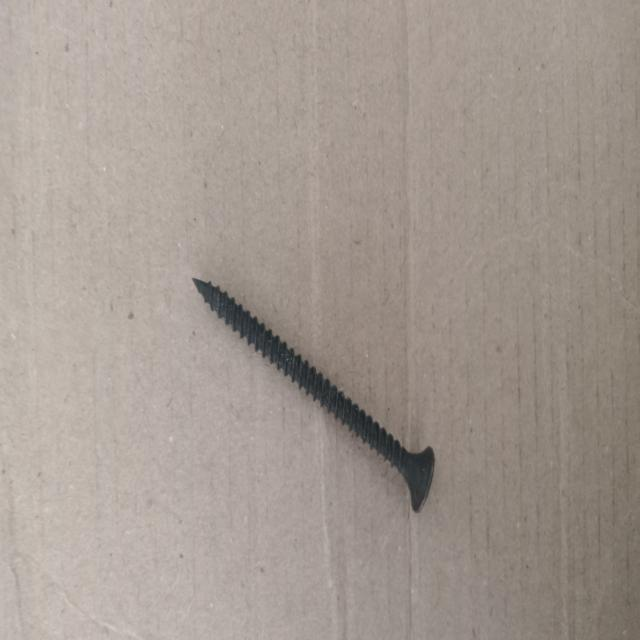screw: (192, 276, 436, 514)
